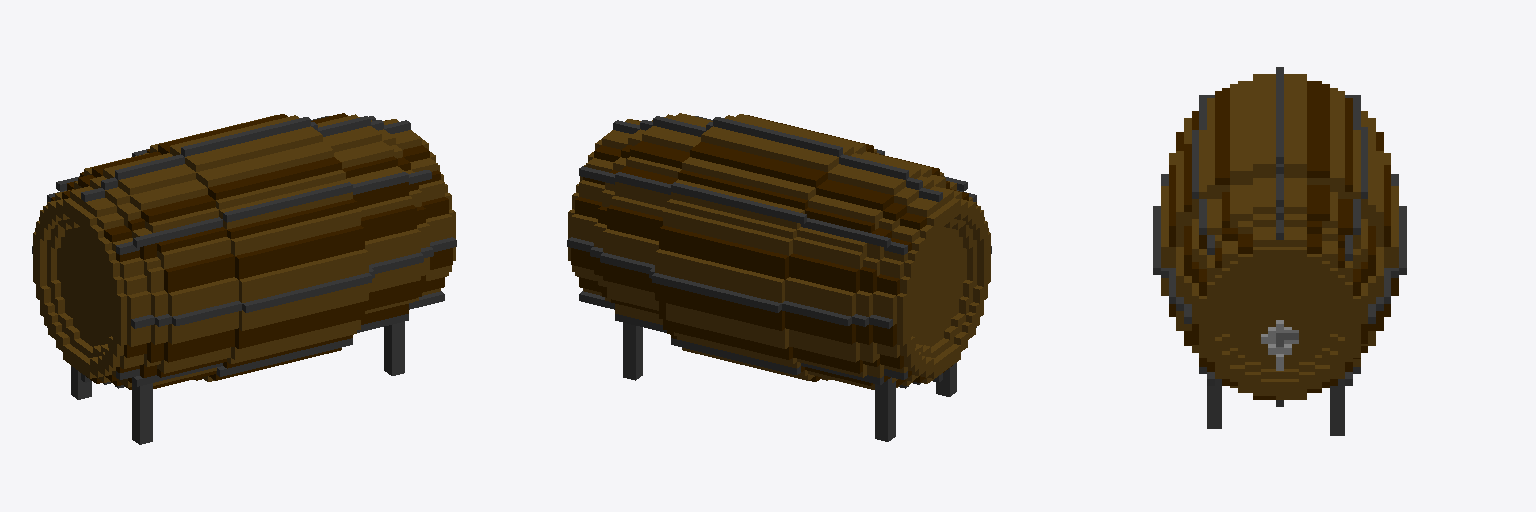
The picture shows the model from 3 angles: view 1: azimuth 30°, elevation 25°; view 2: azimuth 150°, elevation 25°; view 3: azimuth 270°, elevation 25°; orthographic projection.
Visible parts, largest first — view 1: object 1; view 2: object 1; view 3: object 1.
Boxes of the visible parts, box(x1,y1,x2,y2) form: object 1: box(32, 113, 456, 444); object 1: box(567, 113, 991, 441); object 1: box(1153, 67, 1406, 435).
Bounding box in the file's own units: 5.4 × 3.6 × 3.3.
1 materials, 1 textured.